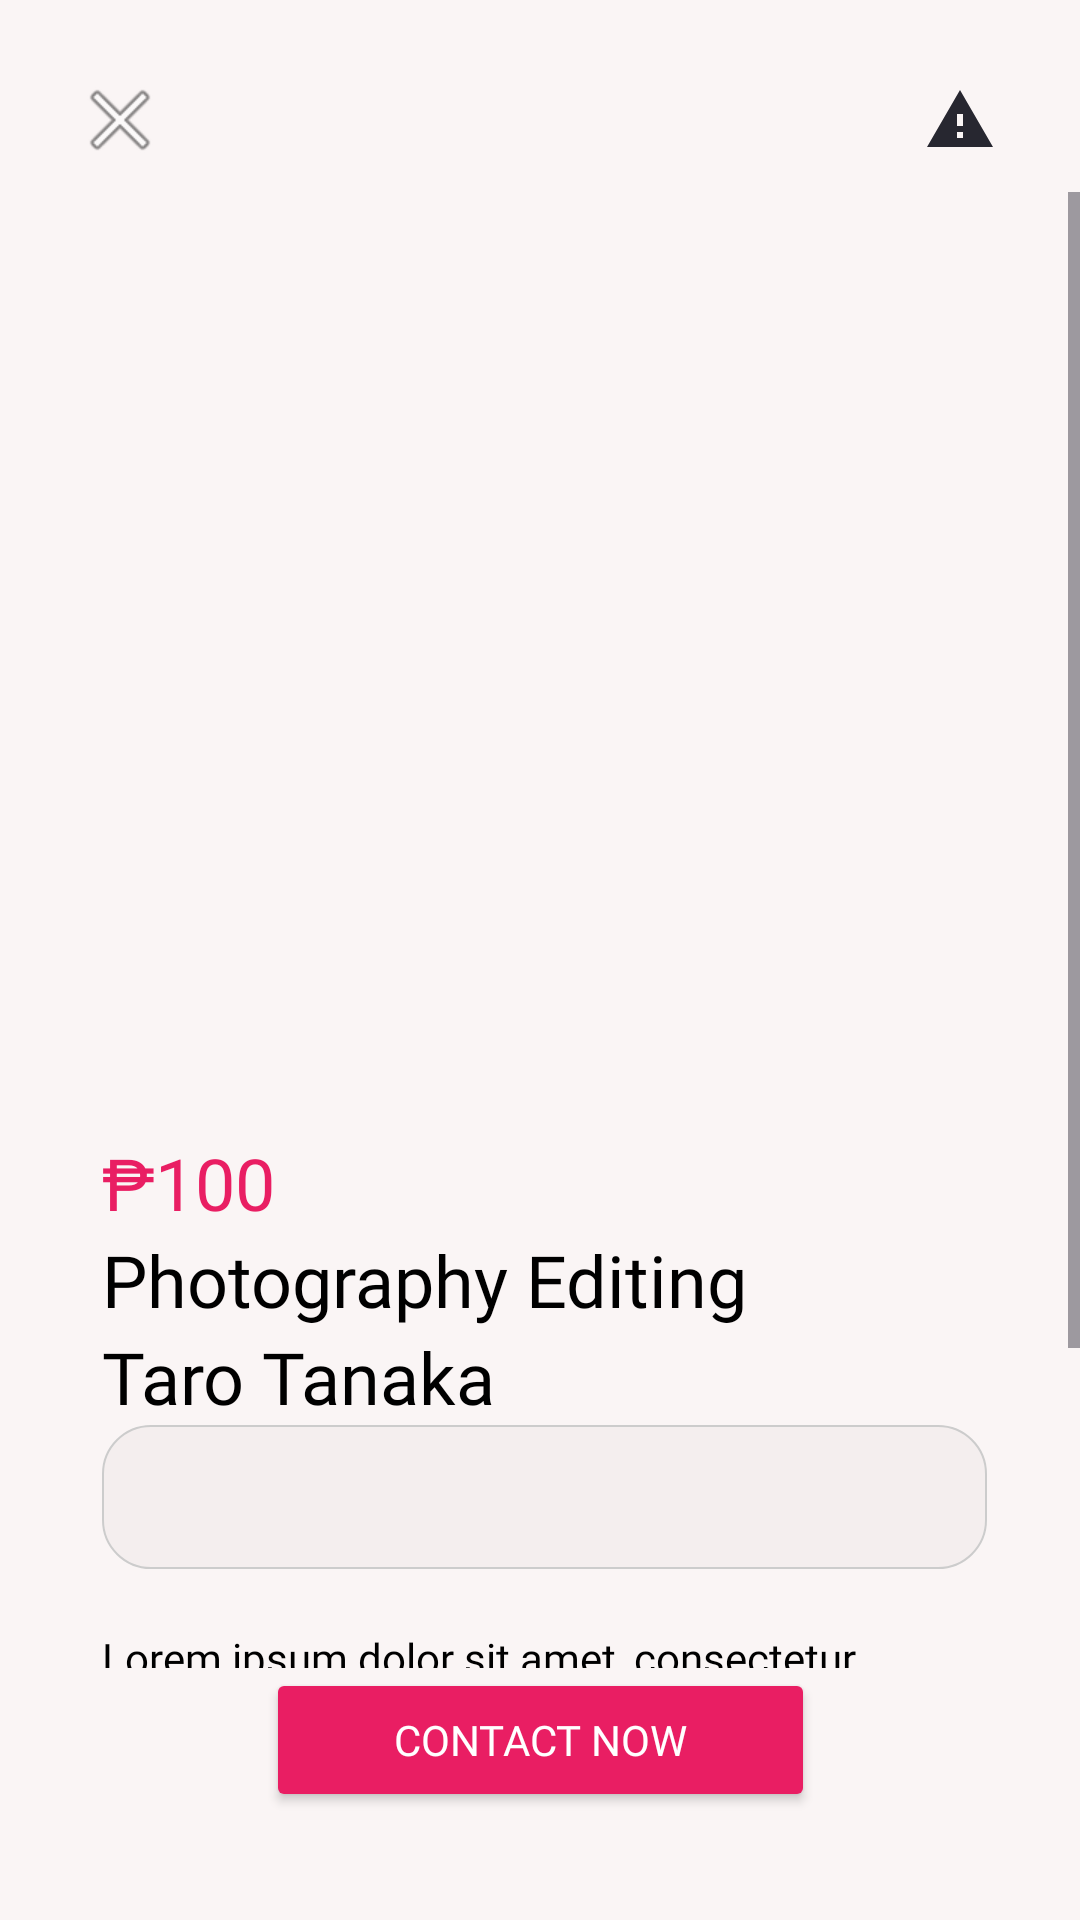

Icons on this 1080px x 1920px Android screen, each with its box as (x1, y1, x2, y2):
Exit: (90, 90, 150, 150)
